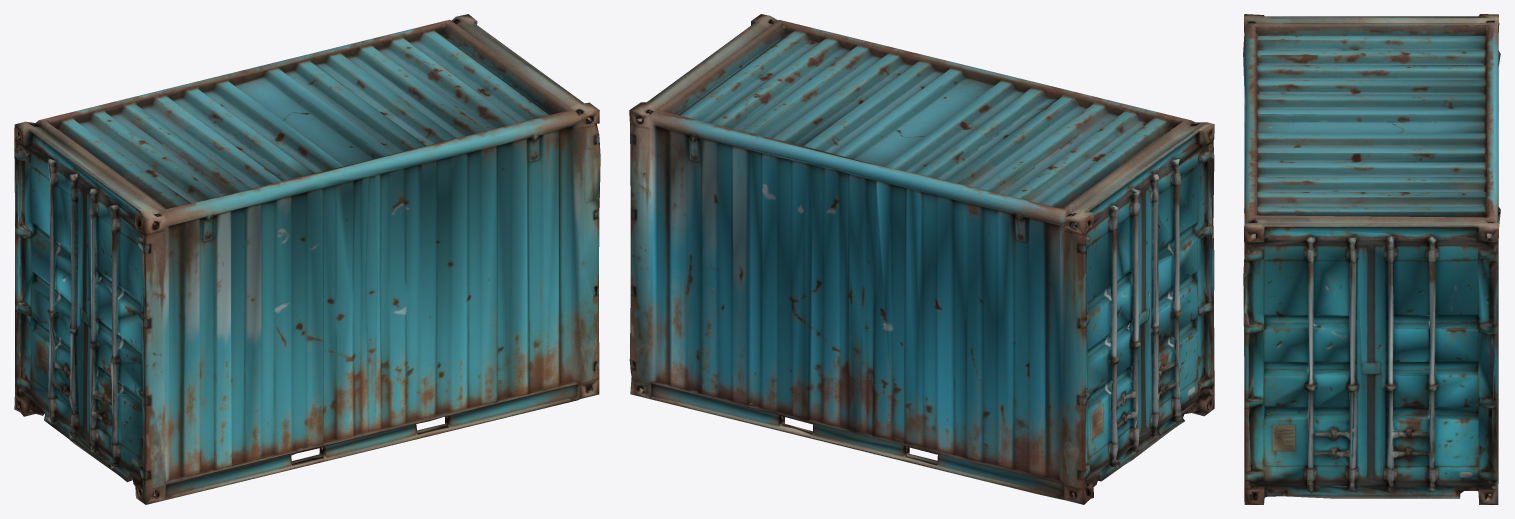
File: container_teal.glb
The picture shows the model from 3 angles, left to right: view 1: azimuth 30°, elevation 25°; view 2: azimuth 150°, elevation 25°; view 3: azimuth 270°, elevation 25°; orthographic projection. The views are drawn at different scales.
Parts seen in each view (by area): view 1: container_teal; view 2: container_teal; view 3: container_teal.
Part boxes in pixels (box(x1,y1,x2,y2)): container_teal: box(14, 14, 600, 504); container_teal: box(629, 14, 1214, 504); container_teal: box(1243, 14, 1500, 504).
Size of the model in its own units: 2.01 by 1.21 by 1.01.
Materials: 1 (1 with a texture image).
